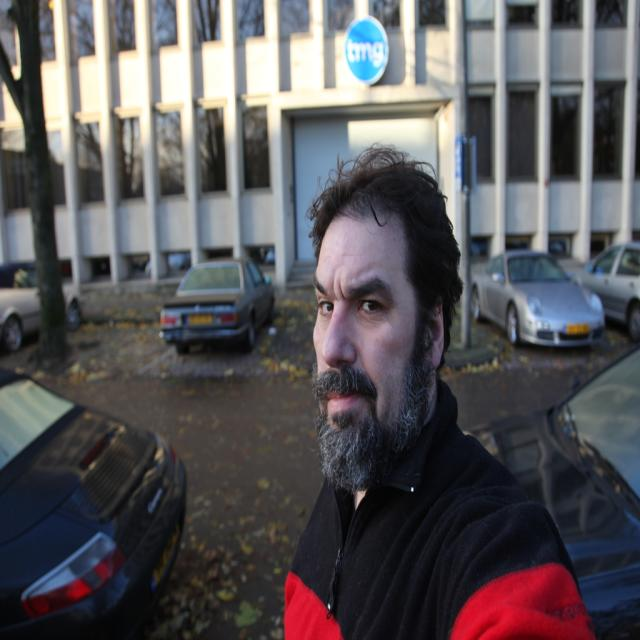car: (467, 249, 607, 342), (160, 259, 273, 346)
